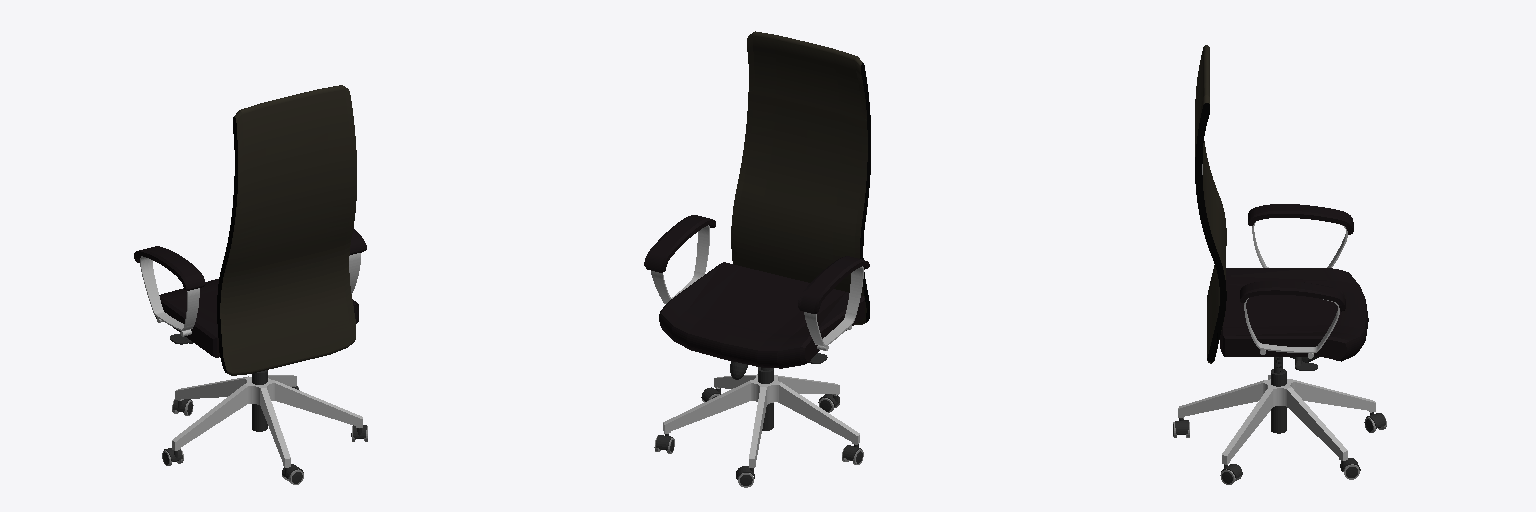
The picture shows the model from 3 angles: view 1: azimuth 30°, elevation 25°; view 2: azimuth 150°, elevation 25°; view 3: azimuth 270°, elevation 25°; orthographic projection.
Visible parts, largest first — view 1: Mesh1 Group1 Model, Mesh3 Group3 Model, Mesh6 Group6 Model, Mesh12 Group10 Armrest2 Model, Mesh13 Group11 Armrest2 Model, Mesh2 Group2 Model; view 2: Mesh1 Group1 Model, Mesh6 Group6 Model, Mesh3 Group3 Model, Mesh9 Group9 Armrest1 Model, Mesh13 Group11 Armrest2 Model, Mesh12 Group10 Armrest2 Model, Mesh8 Group8 Armrest1 Model; view 3: Mesh6 Group6 Model, Mesh3 Group3 Model, Mesh1 Group1 Model, Mesh9 Group9 Armrest1 Model, Mesh13 Group11 Armrest2 Model, Mesh2 Group2 Model, Mesh8 Group8 Armrest1 Model.
Boxes of the visible parts, box(x1,y1,x2,y2) form: Mesh1 Group1 Model: box(217, 85, 356, 375); Mesh3 Group3 Model: box(172, 375, 362, 467); Mesh6 Group6 Model: box(155, 279, 358, 357); Mesh12 Group10 Armrest2 Model: box(140, 256, 199, 330); Mesh13 Group11 Armrest2 Model: box(134, 246, 205, 290); Mesh2 Group2 Model: box(252, 370, 267, 431); Mesh1 Group1 Model: box(731, 31, 870, 324); Mesh6 Group6 Model: box(659, 262, 864, 368); Mesh3 Group3 Model: box(663, 374, 859, 467); Mesh9 Group9 Armrest1 Model: box(644, 215, 715, 272); Mesh13 Group11 Armrest2 Model: box(798, 256, 869, 313); Mesh12 Group10 Armrest2 Model: box(804, 266, 863, 346); Mesh8 Group8 Armrest1 Model: box(651, 225, 709, 303); Mesh6 Group6 Model: box(1220, 268, 1368, 361); Mesh3 Group3 Model: box(1178, 375, 1375, 464); Mesh1 Group1 Model: box(1195, 45, 1226, 363); Mesh9 Group9 Armrest1 Model: box(1240, 281, 1345, 311); Mesh13 Group11 Armrest2 Model: box(1248, 204, 1353, 234); Mesh2 Group2 Model: box(1271, 357, 1286, 433); Mesh8 Group8 Armrest1 Model: box(1244, 298, 1339, 352).
Size of the model in its own units: 0.4444 by 0.8722 by 0.4517.